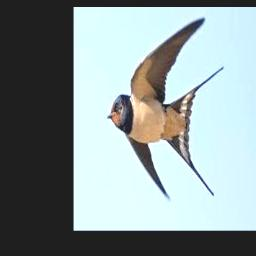Swallow: (107, 17, 224, 200)
